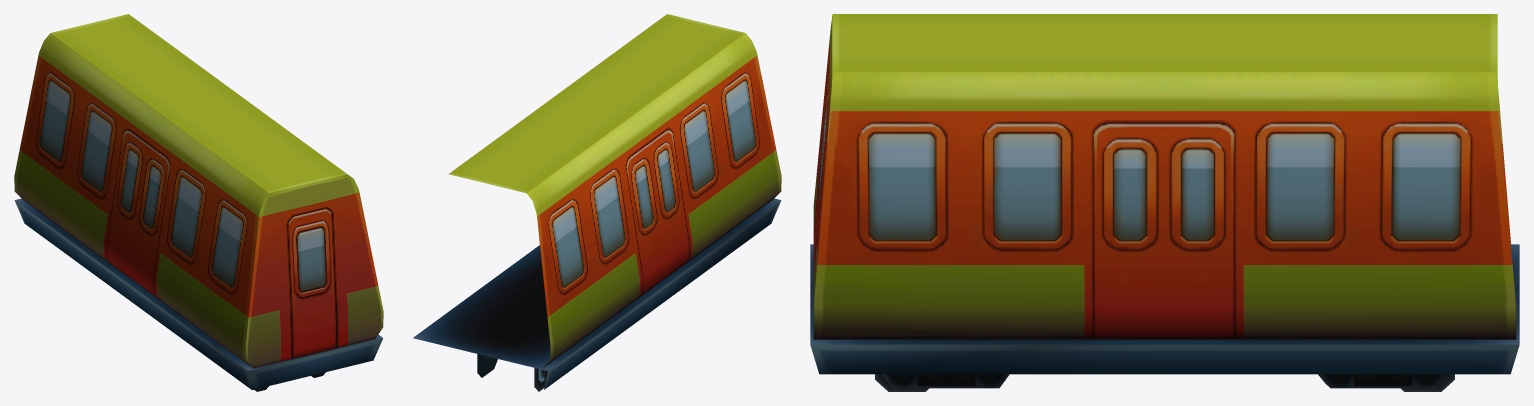
The model's file is subway.gltf.
The picture shows the model from 3 angles, left to right: view 1: azimuth 30°, elevation 25°; view 2: azimuth 150°, elevation 25°; view 3: azimuth 270°, elevation 25°; orthographic projection. The views are drawn at different scales.
Parts seen in each view (by area): view 1: default.008; view 2: default.008; view 3: default.008.
Boxes of the visible parts, <box> form: default.008: <box>14,14,383,391</box>; default.008: <box>413,14,781,391</box>; default.008: <box>810,14,1519,391</box>.
Size of the model in its own units: 1.13 by 1.67 by 3.31.
1 material, 1 textured.
